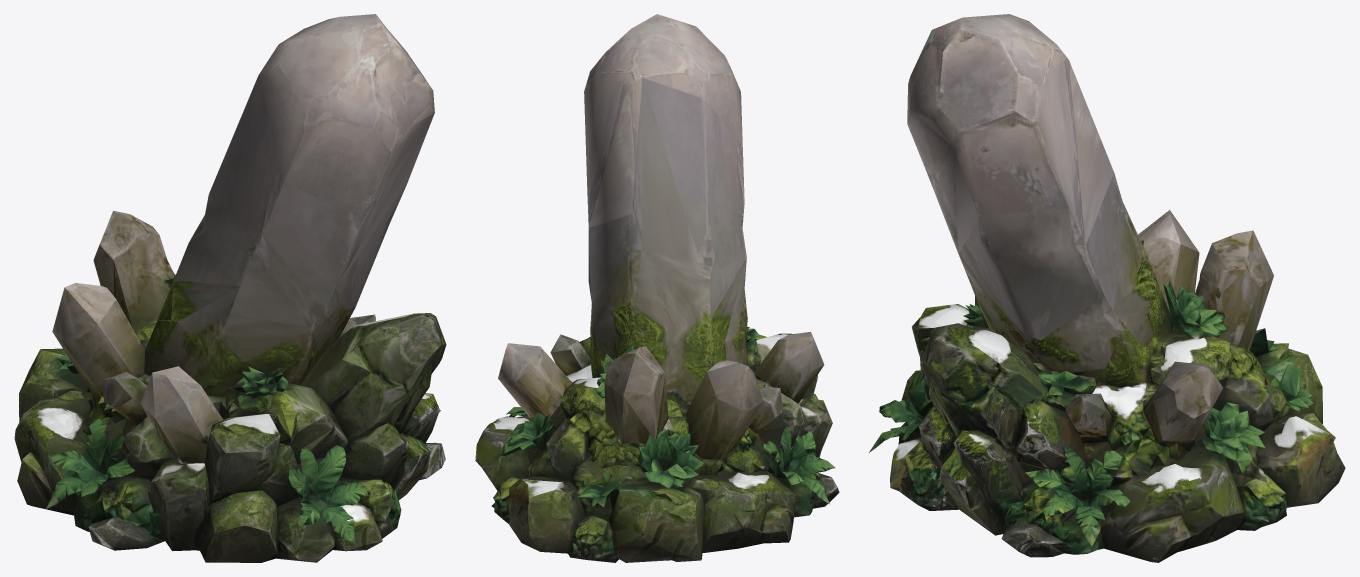
3 renders of one model, left to right at view 1: azimuth 30°, elevation 25°; view 2: azimuth 150°, elevation 25°; view 3: azimuth 270°, elevation 25°, orthographic. The views are drawn at different scales.
Parts seen in each view (by area): view 1: aether_monolith; view 2: aether_monolith; view 3: aether_monolith.
Part boxes in pixels (x1,y1,x2,y2): aether_monolith: [14, 14, 446, 562]; aether_monolith: [475, 14, 839, 562]; aether_monolith: [869, 14, 1345, 562].
Bounding box in the file's own units: 0.8062 × 0.978 × 0.8642.
1 material, 1 textured.
